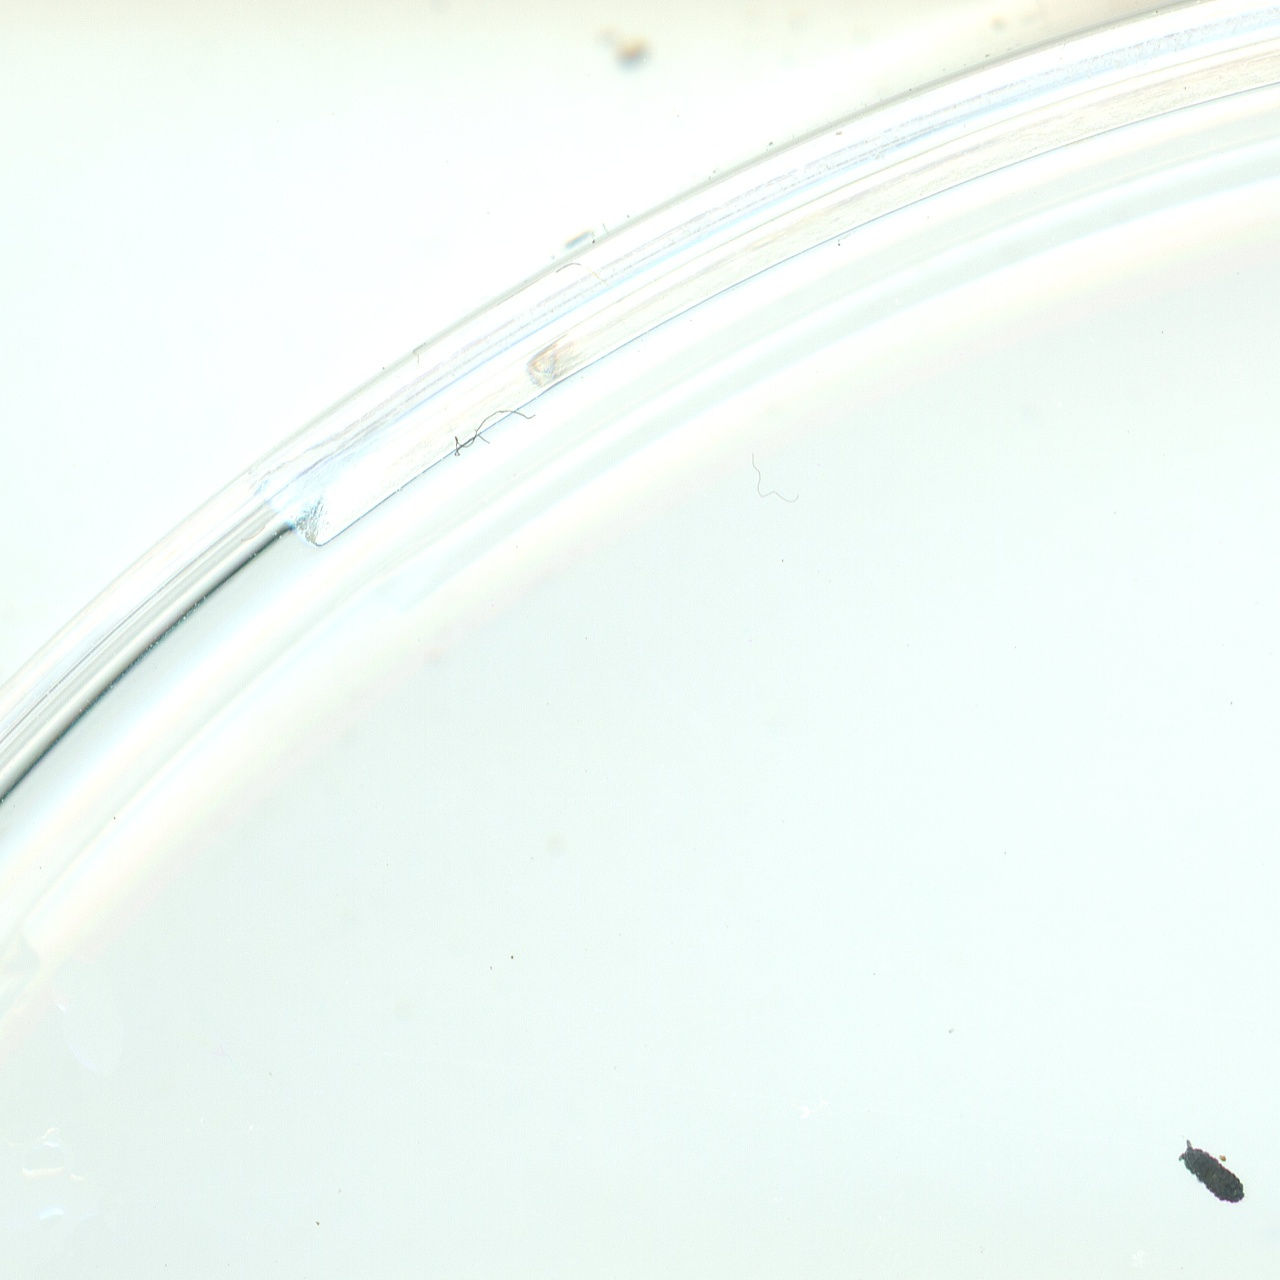arthropod: (1176, 1137, 1246, 1206)
